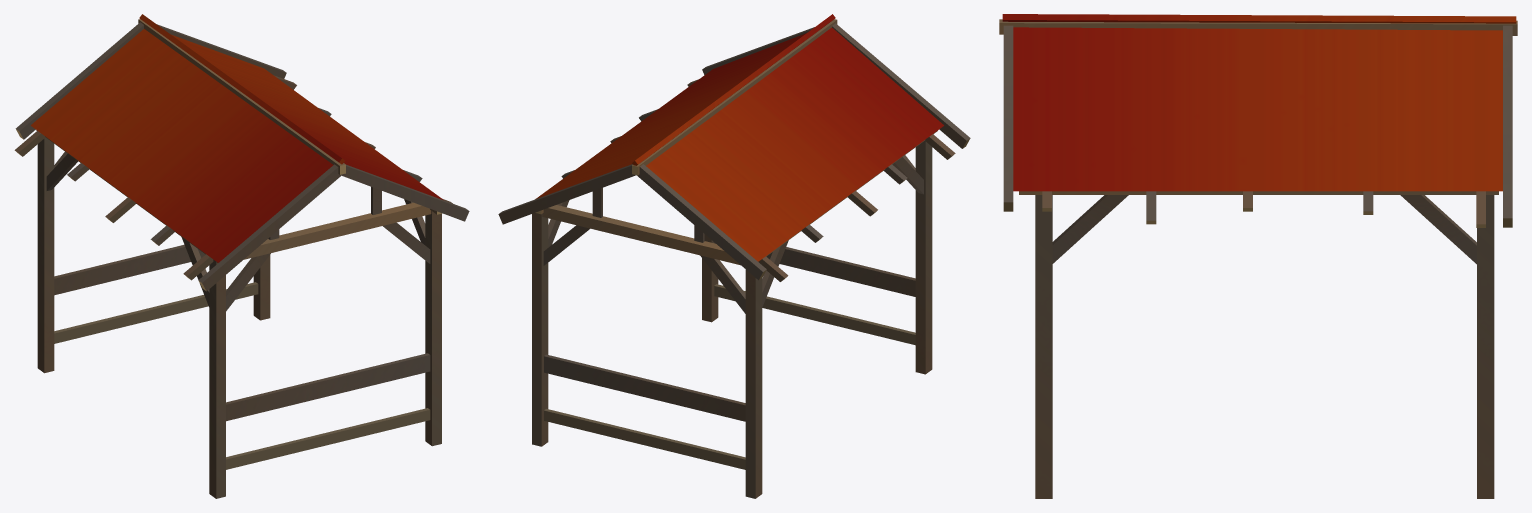
File: Shed_2_LOD1.fbx
3 renders of one model, left to right at view 1: azimuth 30°, elevation 25°; view 2: azimuth 150°, elevation 25°; view 3: azimuth 270°, elevation 25°, orthographic. The views are drawn at different scales.
Visible parts, largest first — view 1: polySurface9857; view 2: polySurface9857; view 3: polySurface9857.
Boxes of the visible parts, x1,y1,x2,y2 form: polySurface9857: [14, 14, 469, 498]; polySurface9857: [498, 14, 970, 498]; polySurface9857: [999, 14, 1517, 498].
Bounding box in the file's own units: 477 × 527 × 597.
